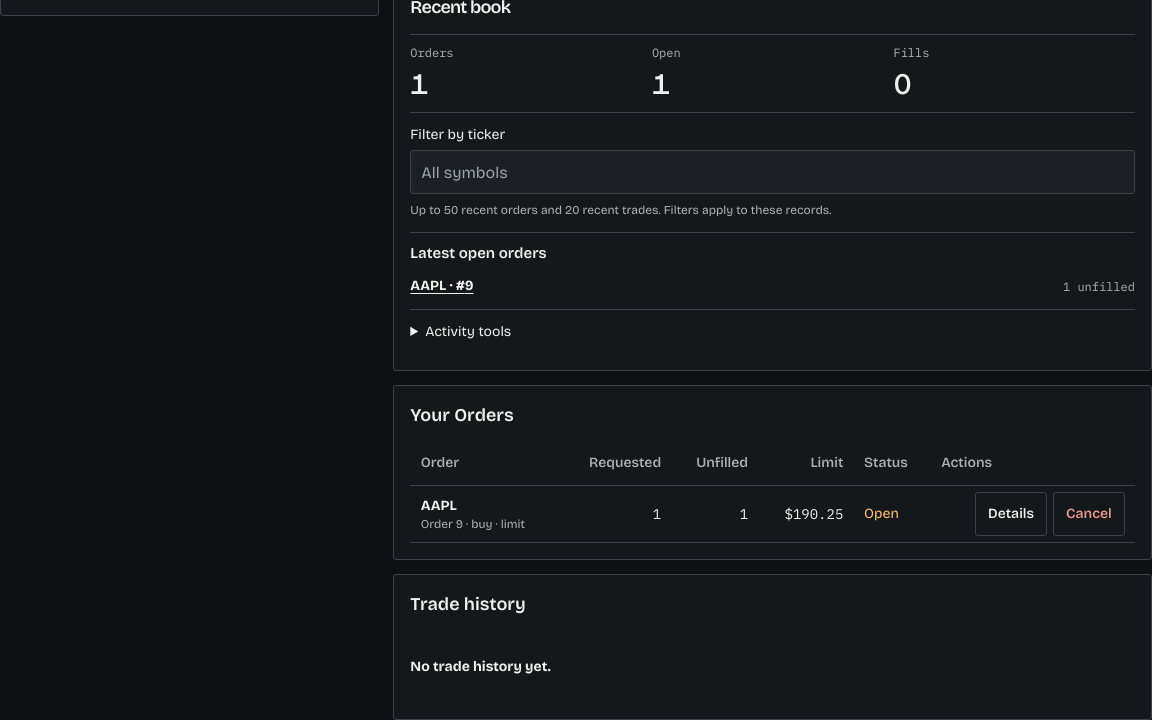
it: fill pagination › requests limit 50, replaces the page, and keeps the whole-order count
This screenshot has width=1152, height=720.
(page scrolled)
Click the button with aria-label "Details for AAPL order 9": [1011, 514] box x1=975 y1=492 x2=1047 y2=536
(page scrolled)
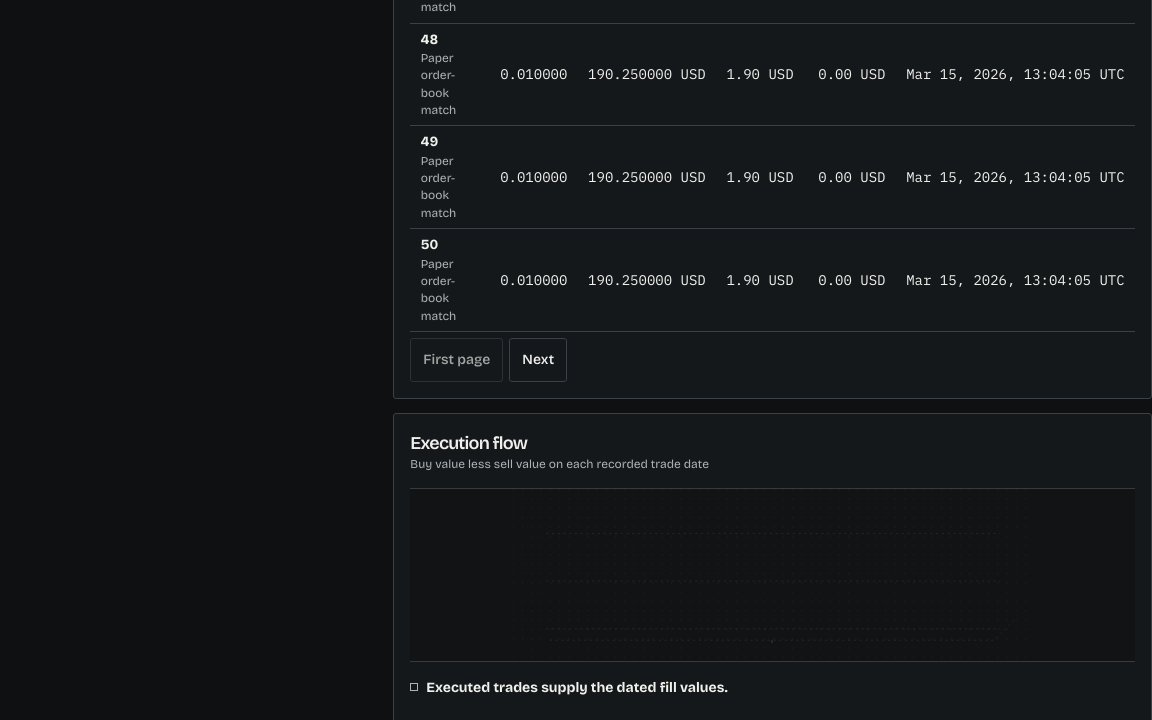
Expected: the text "0.500000" is not shown
Expected: the button "Next" is enabled
Click the button "Next": [538, 360] box x1=509 y1=338 x2=567 y2=382
(page scrolled)
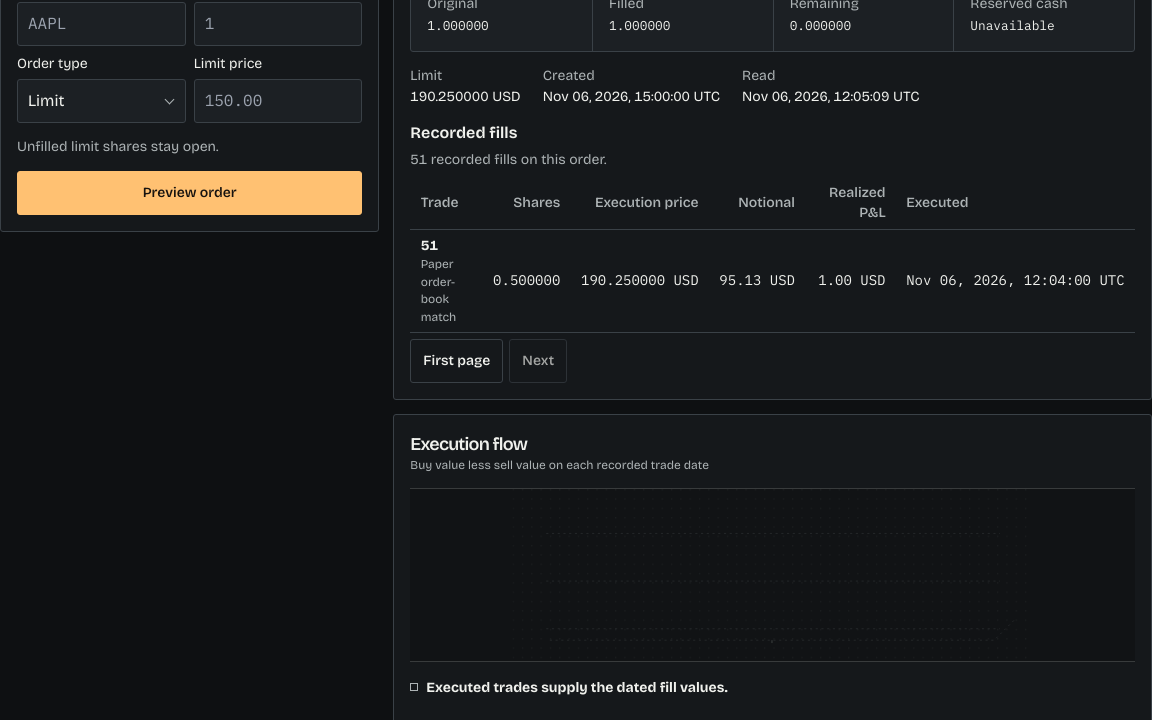
Expected: the text "51 recorded fills on this order." is shown, x1=410 y1=151 x2=607 y2=168
Expected: the text "0.500000" is shown, x1=493 y1=271 x2=560 y2=289
Expected: the element named "Order 9 details" shows "12:05:09", x1=742 y1=88 x2=920 y2=105
Click the button "First page": [457, 361] box x1=410 y1=339 x2=503 y2=383
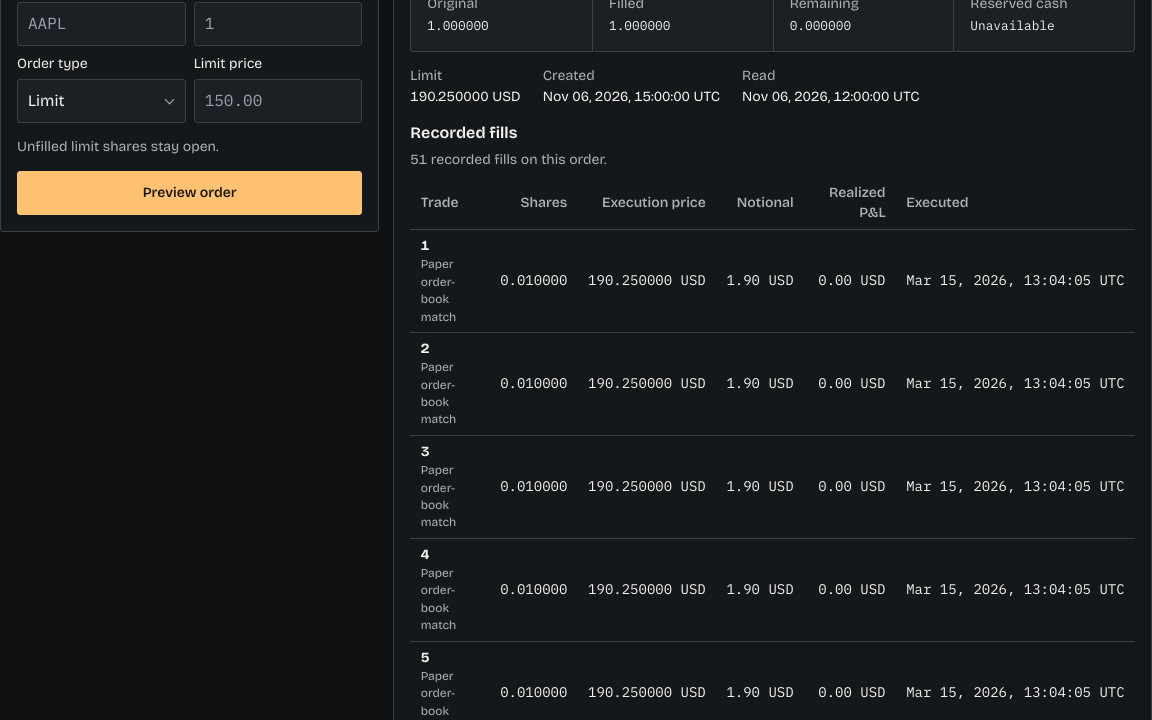
Expected: the text "51 recorded fills on this order." is shown, x1=410 y1=151 x2=607 y2=168
Expected: the text "0.010000" is shown 50 times
